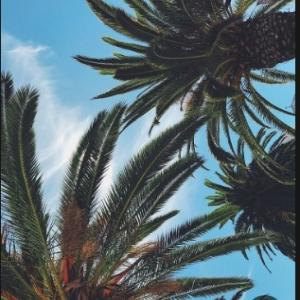palm tree: (0, 71, 284, 299), (71, 0, 295, 169)
